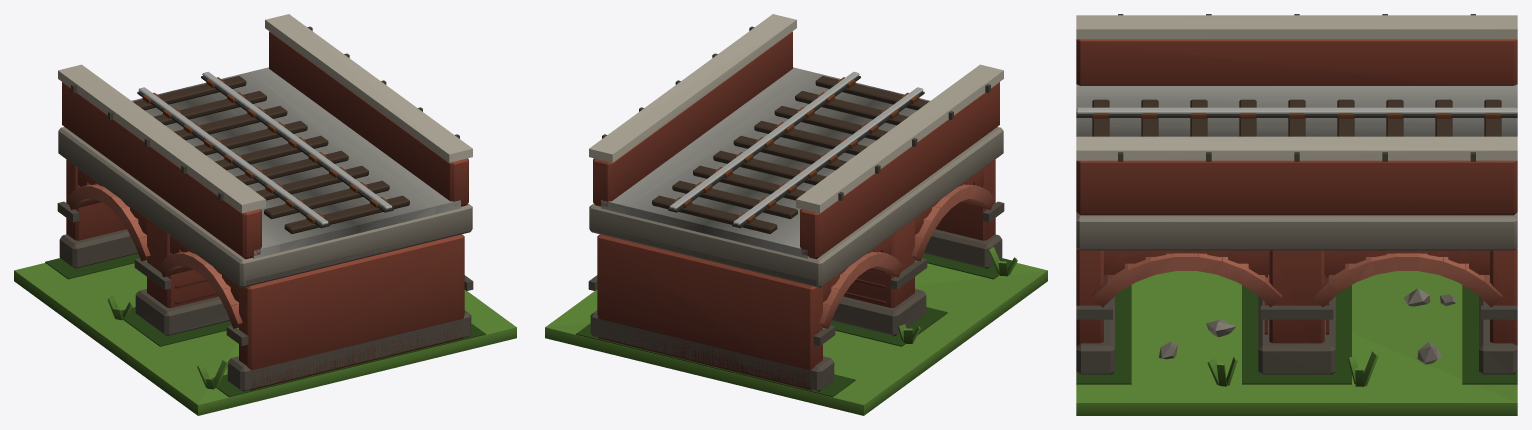
Rendered from track-viaduct-straight-tile.glb.
The picture shows the model from 3 angles, left to right: view 1: azimuth 30°, elevation 25°; view 2: azimuth 150°, elevation 25°; view 3: azimuth 270°, elevation 25°; orthographic projection. The views are drawn at different scales.
Visible parts, largest first — view 1: track_viaduct_straight_tile; view 2: track_viaduct_straight_tile; view 3: track_viaduct_straight_tile.
Boxes of the visible parts, <box> form: track_viaduct_straight_tile: <box>14,14,516,415</box>; track_viaduct_straight_tile: <box>545,14,1047,415</box>; track_viaduct_straight_tile: <box>1076,14,1517,415</box>.
Size of the model in its own units: 4 by 2.4 by 4.
